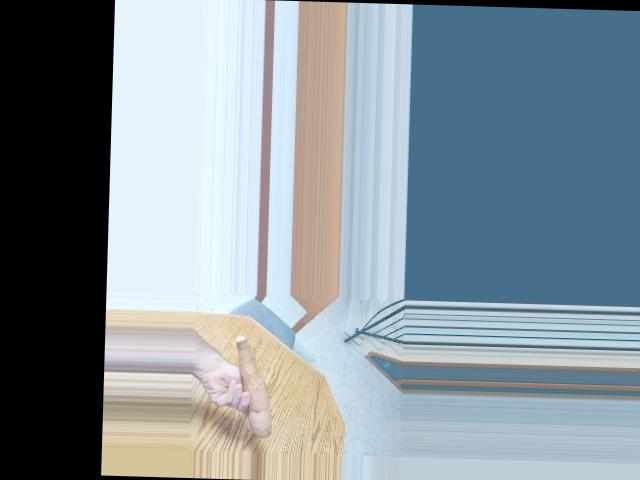sweet_potato: (232, 332, 281, 435)
